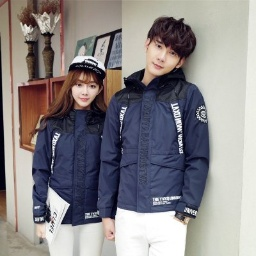face: (144, 16, 196, 75), (61, 64, 103, 111)
